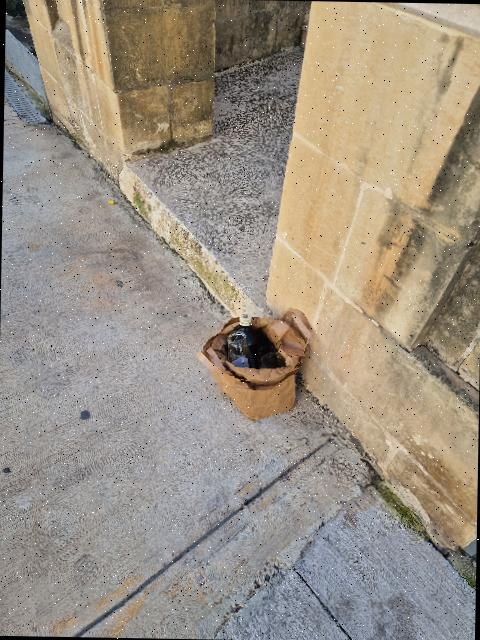Other: (197, 309, 310, 421)
